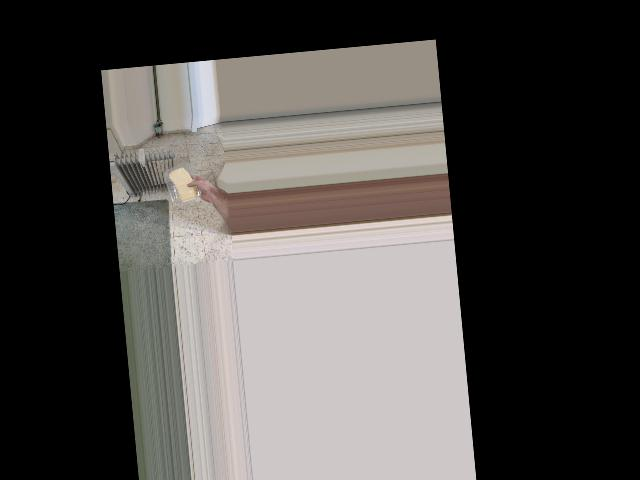cheese: (167, 162, 199, 205)
